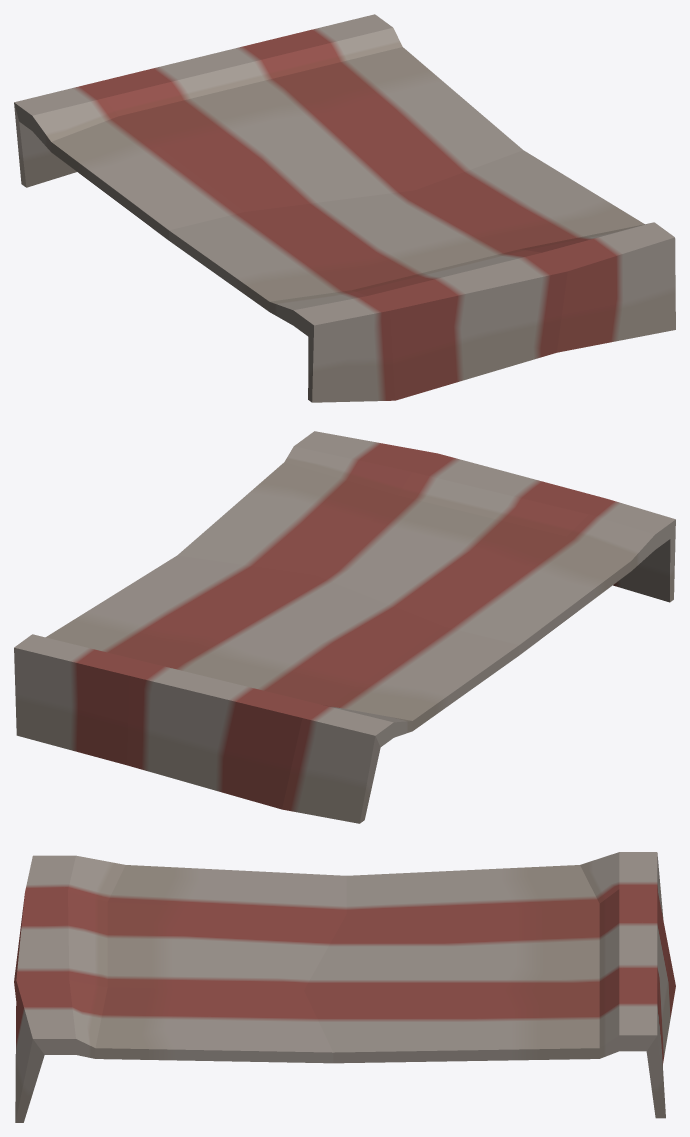
Rendered from SM_Bld_Village_ClothCover_Cloth_04.glb.
The picture shows the model from 3 angles, top to bottom: view 1: azimuth 30°, elevation 25°; view 2: azimuth 150°, elevation 25°; view 3: azimuth 270°, elevation 25°; orthographic projection. The views are drawn at different scales.
Visible parts, largest first — view 1: SM_Bld_Village_ClothCover_Cloth_04; view 2: SM_Bld_Village_ClothCover_Cloth_04; view 3: SM_Bld_Village_ClothCover_Cloth_04.
Boxes of the visible parts, bbox=[...] form: SM_Bld_Village_ClothCover_Cloth_04: bbox=[14, 14, 675, 402]; SM_Bld_Village_ClothCover_Cloth_04: bbox=[14, 431, 675, 823]; SM_Bld_Village_ClothCover_Cloth_04: bbox=[14, 852, 675, 1122].
Size of the model in its own units: 1.77 by 0.4202 by 2.7.
Materials: 1 (1 with a texture image).
